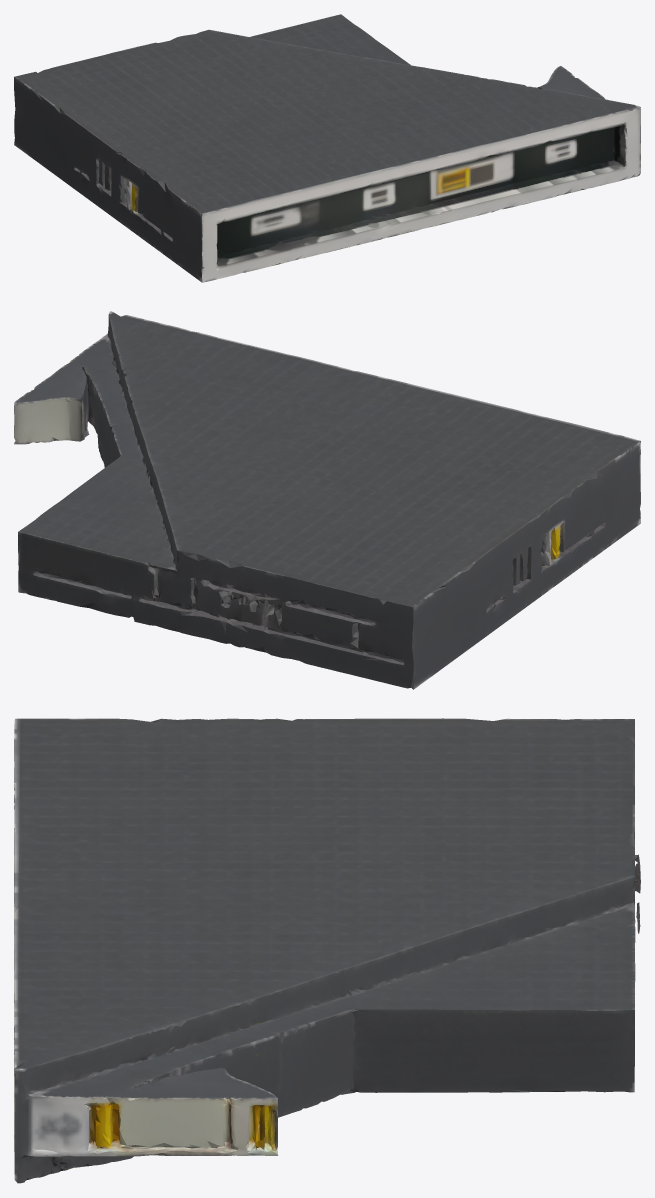
File: baseball_scoreboard.glb
3 renders of one model, top to bottom at view 1: azimuth 30°, elevation 25°; view 2: azimuth 150°, elevation 25°; view 3: azimuth 270°, elevation 25°, orthographic. The views are drawn at different scales.
Parts seen in each view (by area): view 1: Baseball_Scoreboard; view 2: Baseball_Scoreboard; view 3: Baseball_Scoreboard.
Part boxes in pixels (x1=…): Baseball_Scoreboard: x1=14, y1=14, x2=640, y2=282; Baseball_Scoreboard: x1=14, y1=311, x2=640, y2=689; Baseball_Scoreboard: x1=14, y1=718, x2=640, y2=1183.
Bounding box in the file's own units: 1.89 × 0.2847 × 1.42.
1 material, 1 textured.
